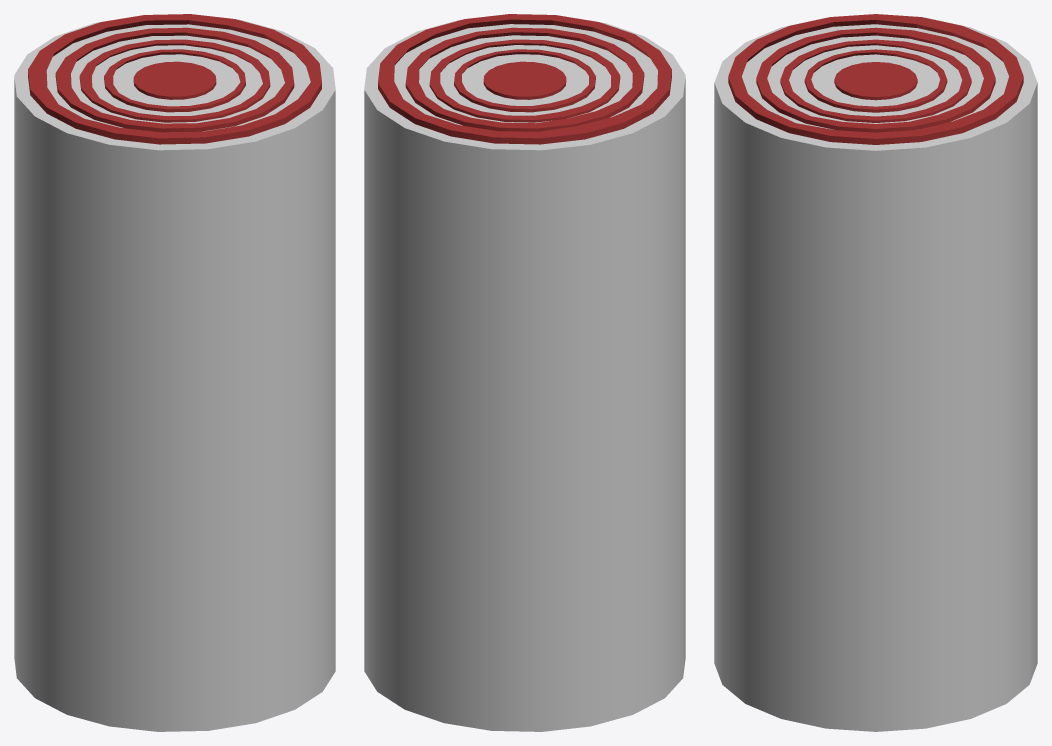
File: targetdummy.fbx
3 views of the same model, side by side, from view 1: azimuth 30°, elevation 25°; view 2: azimuth 150°, elevation 25°; view 3: azimuth 270°, elevation 25° (orthographic).
Parts seen in each view (by area): view 1: pCylinder4; view 2: pCylinder4; view 3: pCylinder4.
Part boxes in pixels (left/top/right/bottom): pCylinder4: left=14, top=14, right=335, bottom=731; pCylinder4: left=364, top=14, right=685, bottom=731; pCylinder4: left=714, top=14, right=1037, bottom=731.
Bounding box in the file's own units: 32.46 × 65.1 × 32.46.
